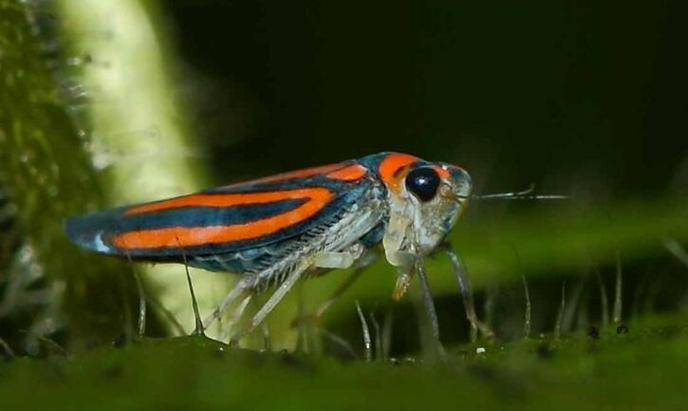Cicadellidae: (65, 151, 472, 338)
